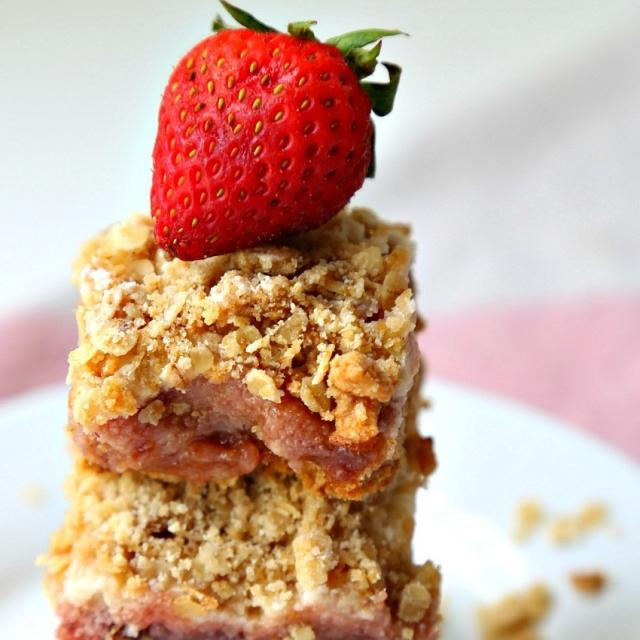strawberry: (137, 0, 419, 275)
